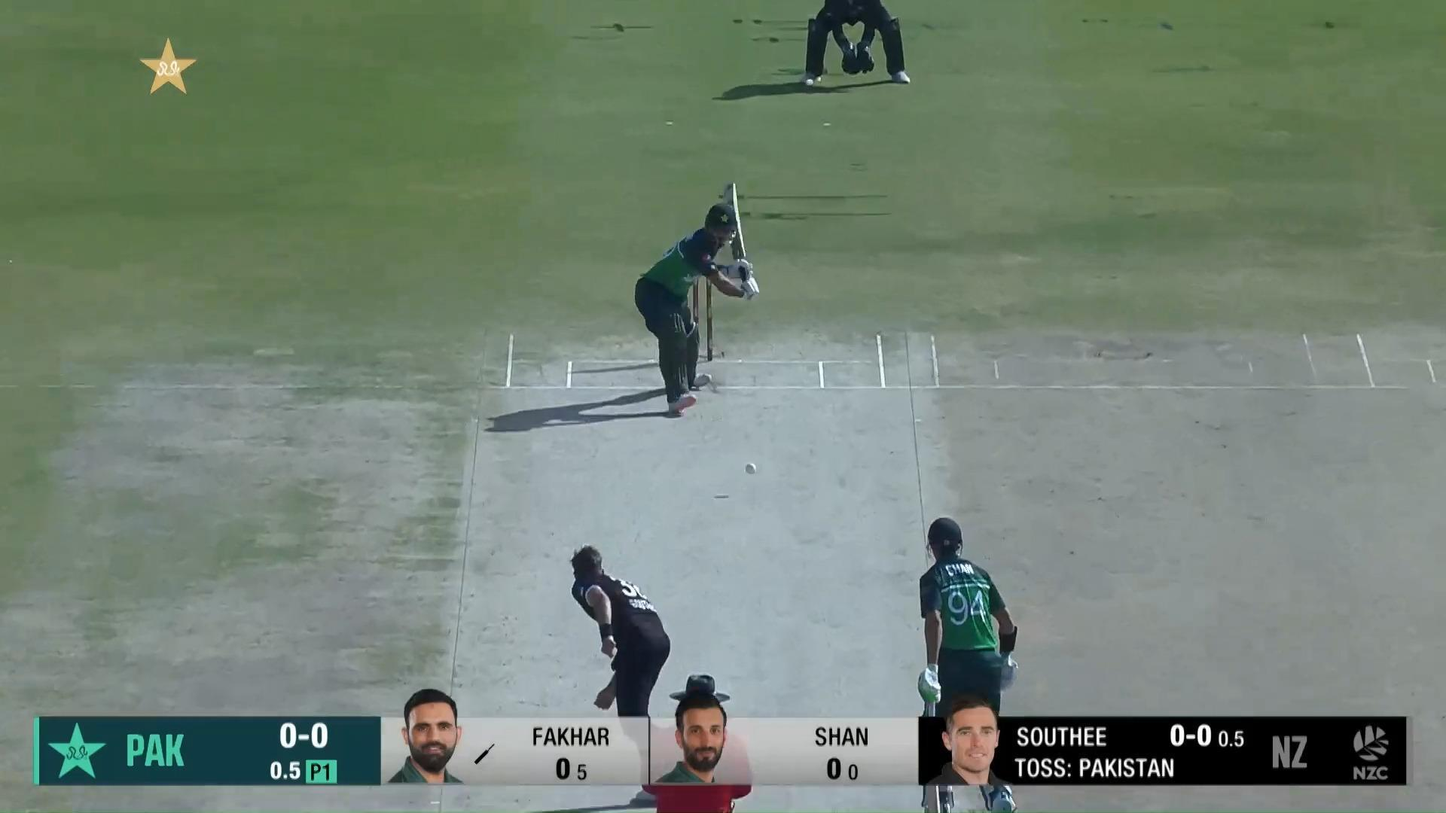BM 1: (634, 182, 760, 416)
BO: (570, 544, 671, 717)
